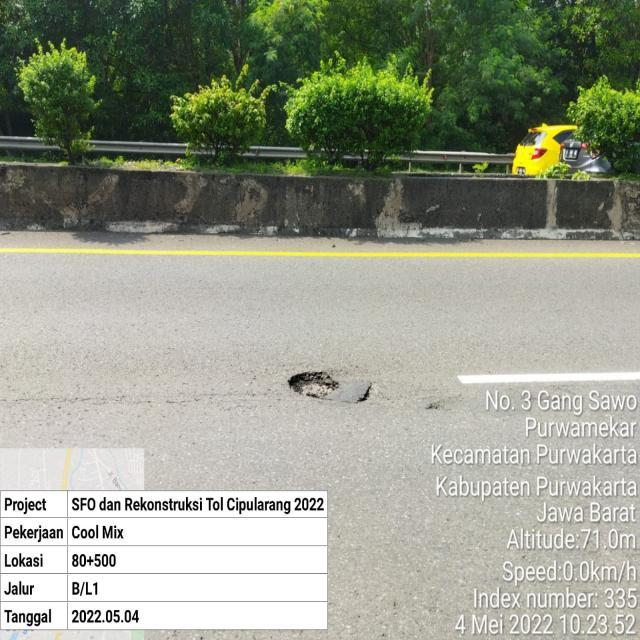Buraco: (285, 368, 343, 401), (354, 380, 391, 404)
